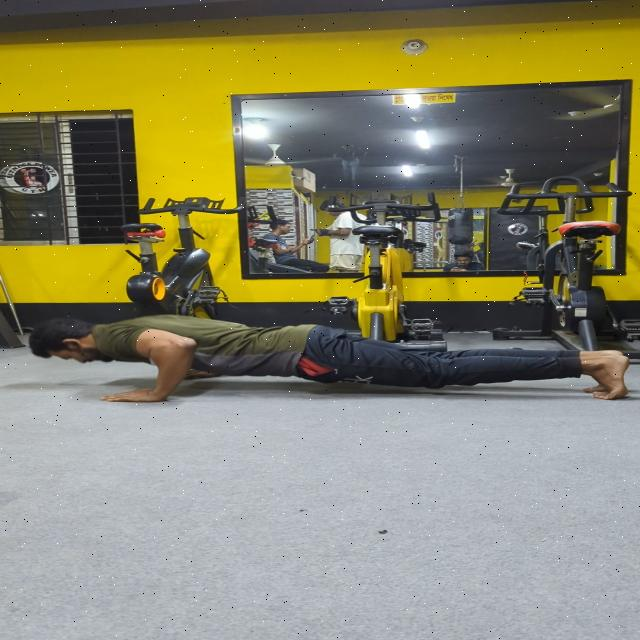Normal_PushUps: (0, 289, 640, 462)
